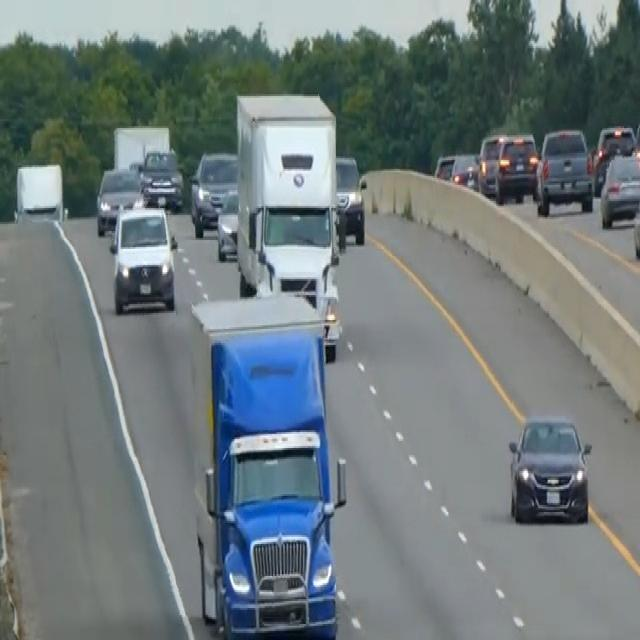car: (506, 410, 592, 524), (535, 125, 594, 215), (189, 148, 238, 236), (95, 163, 142, 234), (494, 130, 538, 204), (592, 122, 636, 194), (599, 150, 639, 228), (334, 151, 366, 245), (139, 146, 184, 210), (476, 130, 507, 196), (215, 187, 239, 261), (450, 150, 479, 188), (433, 151, 455, 181), (632, 175, 639, 262)
lorry: (187, 290, 347, 638), (234, 89, 340, 302)
minivan: (108, 201, 178, 315)
